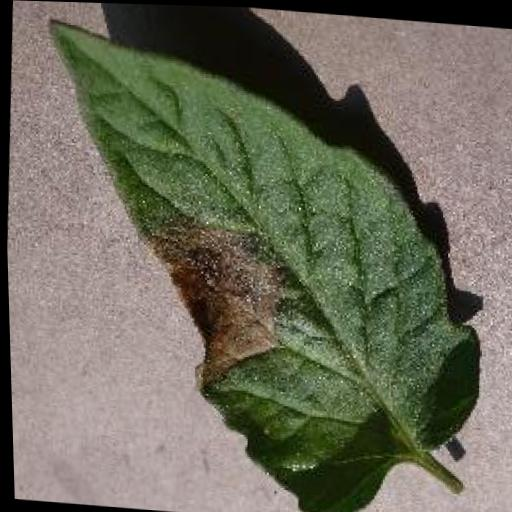Late Blight: (13, 16, 501, 512)
